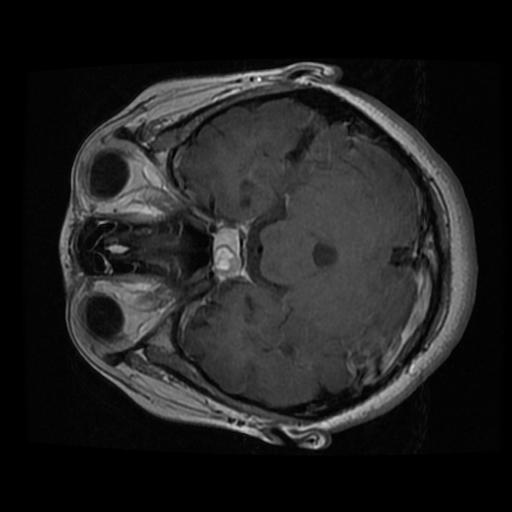pituitary tumour: (212, 228, 240, 277)
